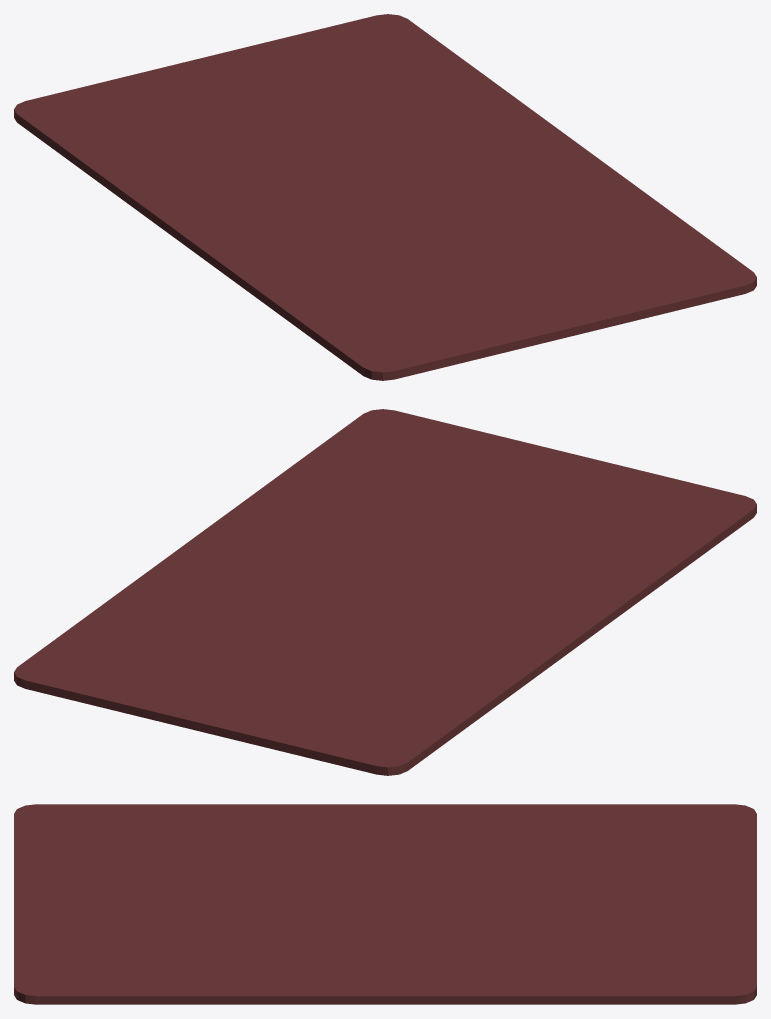
The model's file is cards.fbx.
3 views of the same model, one above another, from view 1: azimuth 30°, elevation 25°; view 2: azimuth 150°, elevation 25°; view 3: azimuth 270°, elevation 25° (orthographic).
Visible parts, largest first — view 1: card; view 2: card; view 3: card.
Part boxes in pixels (x1,y1,x2,y2): card: (14,14,756,380); card: (14,409,756,775); card: (14,804,756,1004).
Size of the model in its own units: 0.1668 by 0.00347 by 0.2729.
